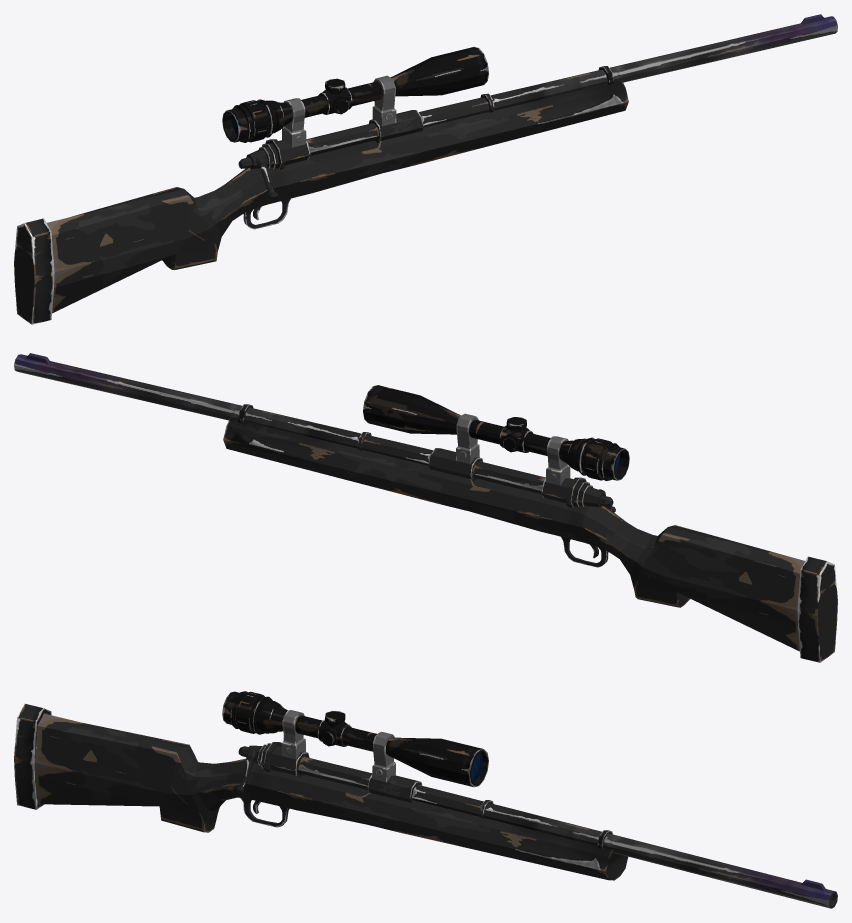
File: Sniper.fbx
3 views of the same model, one above another, from view 1: azimuth 30°, elevation 25°; view 2: azimuth 150°, elevation 25°; view 3: azimuth 330°, elevation 25° (orthographic).
Visible parts, largest first — view 1: Sniper; view 2: Sniper; view 3: Sniper.
Boxes of the visible parts, x1=… form: Sniper: x1=14, y1=14, x2=837, y2=324; Sniper: x1=14, y1=353, x2=837, y2=662; Sniper: x1=14, y1=691, x2=837, y2=908.
Size of the model in its own units: 212 by 40.19 by 13.55.
1 material, 1 textured.
